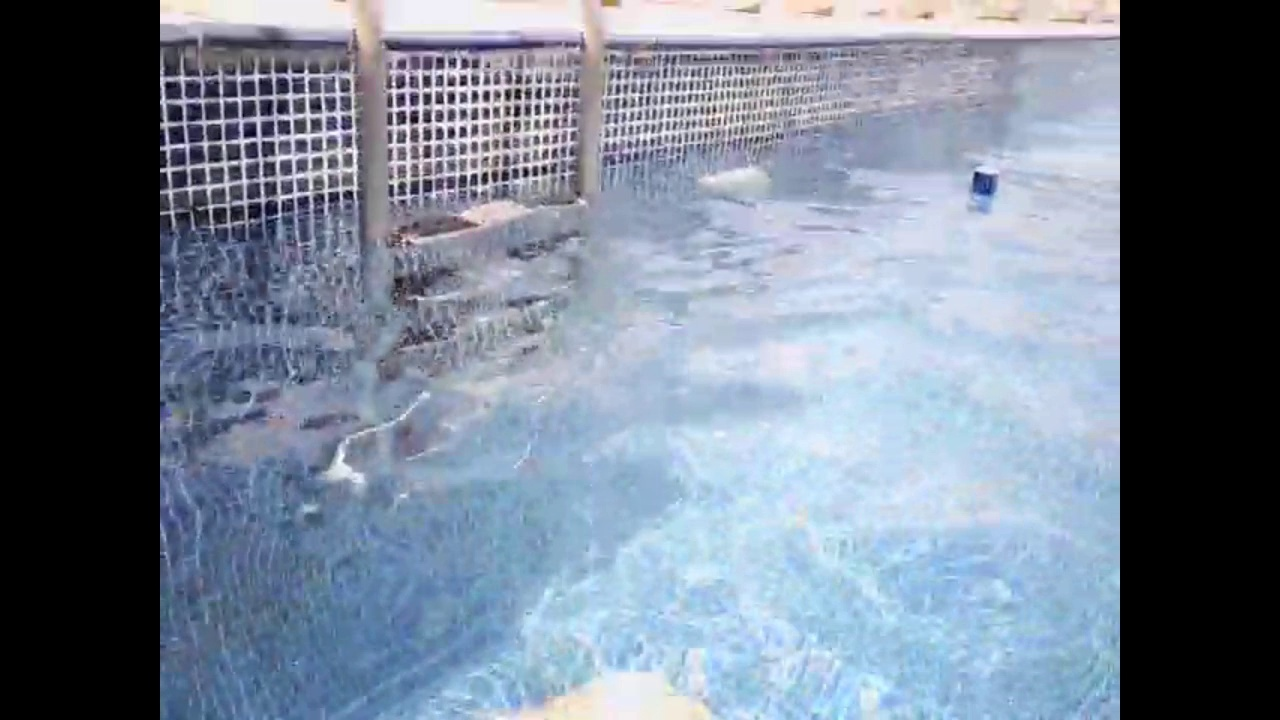debris: (968, 158, 1002, 216)
